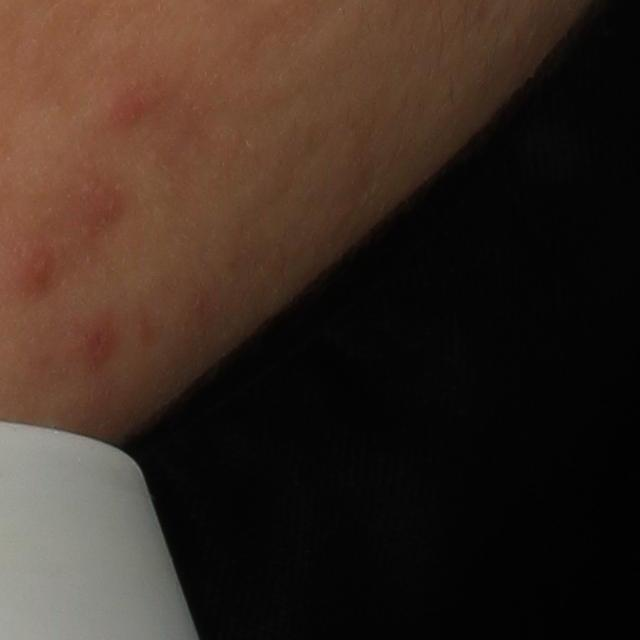papule: (74, 311, 123, 371), (100, 82, 160, 130), (77, 180, 124, 227)
